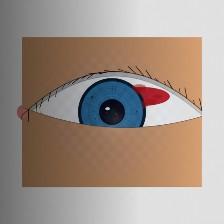hemorrhage_spot: (102, 65, 180, 128)
